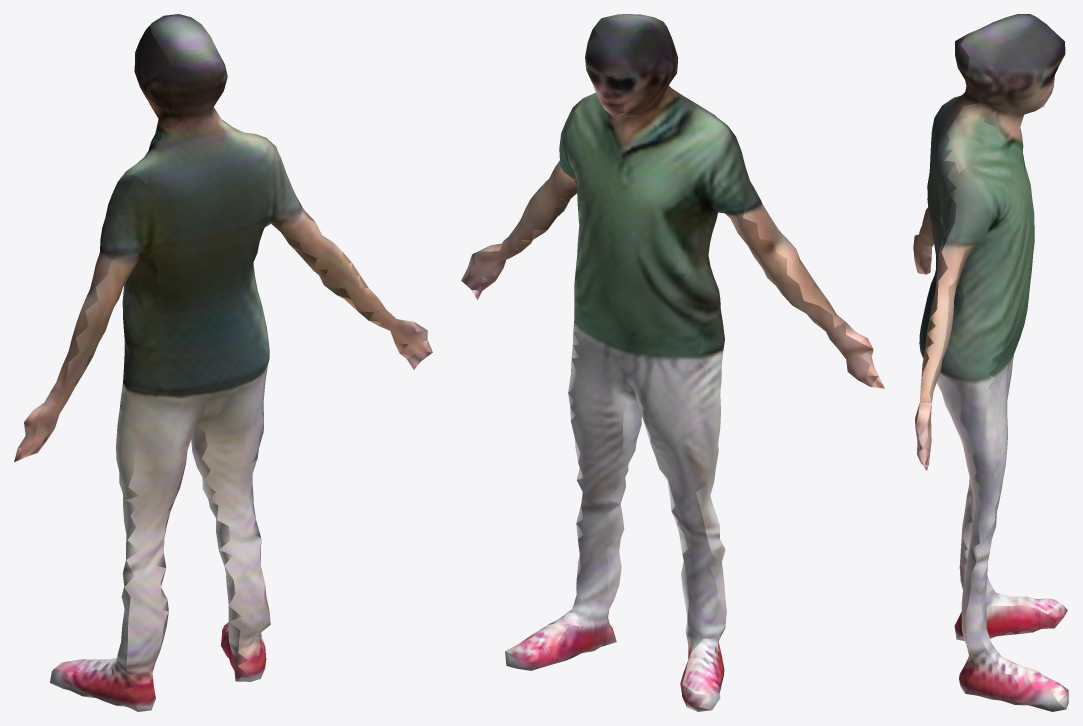
3 renders of one model, left to right at view 1: azimuth 30°, elevation 25°; view 2: azimuth 150°, elevation 25°; view 3: azimuth 270°, elevation 25°, orthographic.
Visible parts, largest first — view 1: world; view 2: world; view 3: world.
Boxes of the visible parts, box(x1,y1,x2,y2) form: world: box(14, 14, 432, 711); world: box(461, 14, 884, 711); world: box(913, 14, 1068, 711).
Size of the model in its own units: 0.6727 by 1 by 0.2171.
Materials: 1 (1 with a texture image).
